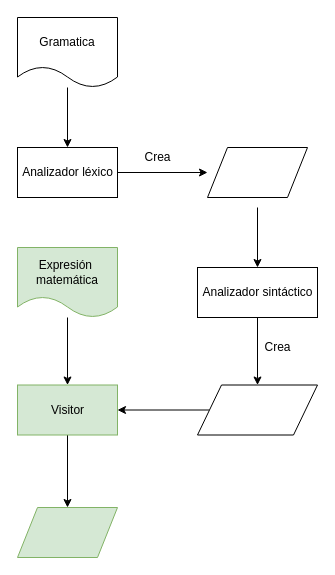
The diagram is 335 pixels wide and 575 high, and some of its shapes have lost their labels. Here are the shapes that lost their labels. From the top down, the centre of each, then its label:
At (257,172): "Tokens".
At (257,409): "Árbol sintáctico".
At (67,532): "Evaluación".
